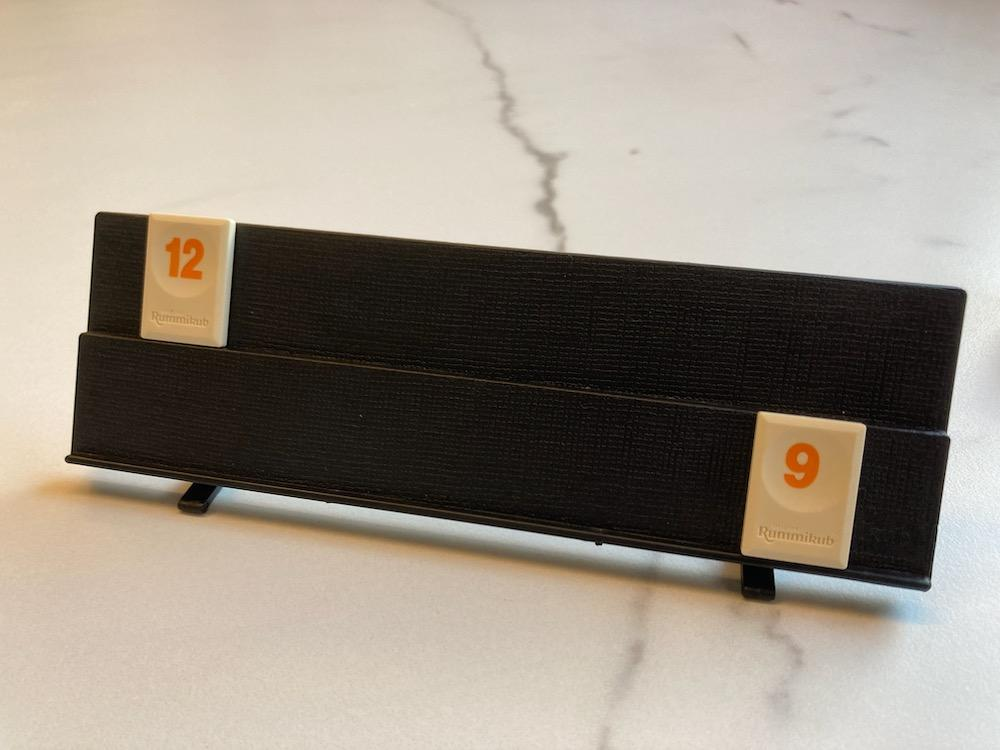orange_12: (142, 213, 236, 346)
orange_9: (740, 412, 867, 568)
